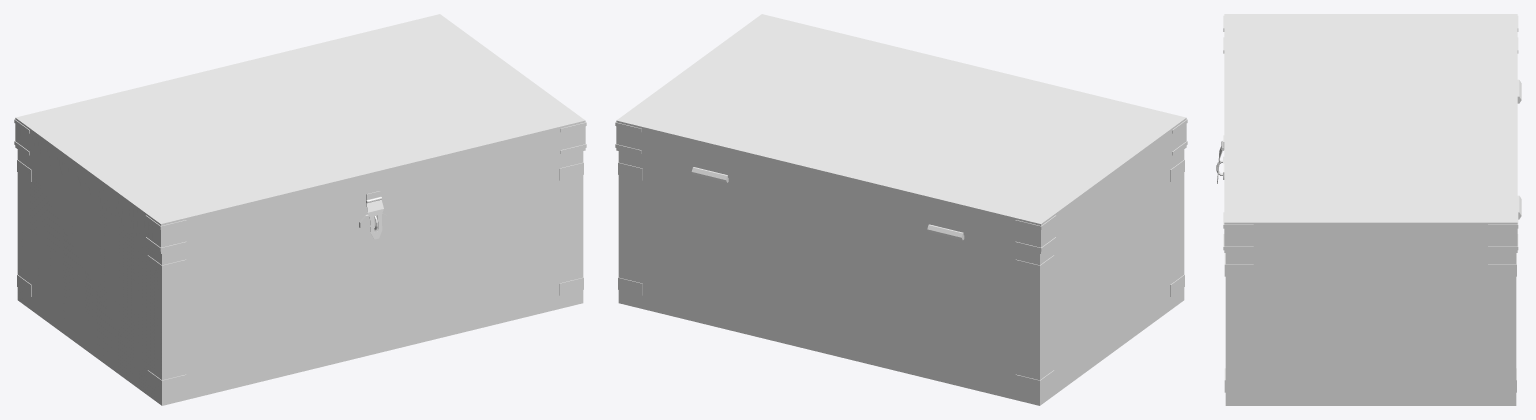
Rendered from Prop_Wooden_Chest_Open_01.glb.
3 views of the same model, side by side, from view 1: azimuth 30°, elevation 25°; view 2: azimuth 150°, elevation 25°; view 3: azimuth 270°, elevation 25° (orthographic).
Parts seen in each view (by area): view 1: Prop_Wooden_Chest_Open_01, Prop_Wooden_Chest_Open_Top_01; view 2: Prop_Wooden_Chest_Open_01, Prop_Wooden_Chest_Open_Top_01; view 3: Prop_Wooden_Chest_Open_Top_01, Prop_Wooden_Chest_Open_01.
Part boxes in pixels (x1,y1,x2,y2): Prop_Wooden_Chest_Open_01: [17, 149, 583, 405]; Prop_Wooden_Chest_Open_Top_01: [14, 14, 586, 253]; Prop_Wooden_Chest_Open_01: [618, 149, 1184, 405]; Prop_Wooden_Chest_Open_Top_01: [615, 14, 1187, 253]; Prop_Wooden_Chest_Open_Top_01: [1217, 14, 1518, 252]; Prop_Wooden_Chest_Open_01: [1216, 79, 1521, 405].
Bounding box in the file's own units: 1.13 × 0.4649 × 0.6987.
Materials: 1 (1 with a texture image).
